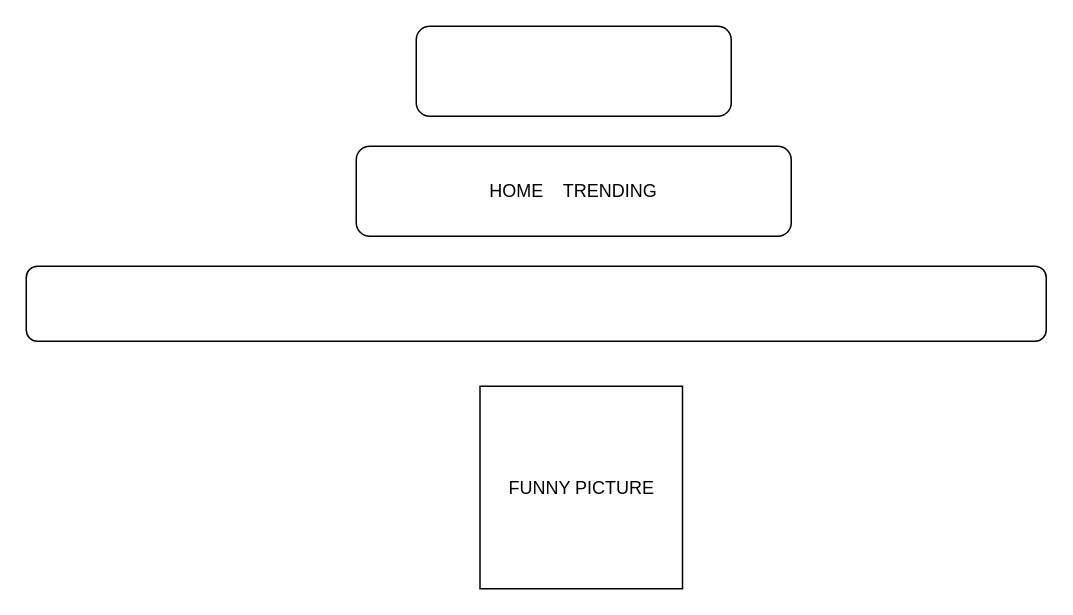
The diagram is 1073 pixels wide and 615 high, and some of its shapes have lost their labels. The centre of each missing label's shape, as x and y in pixels:
"SEARCH BAR" goes at pixel 535 303.
"TRENDING VIBE GIFS" goes at pixel 573 70.
